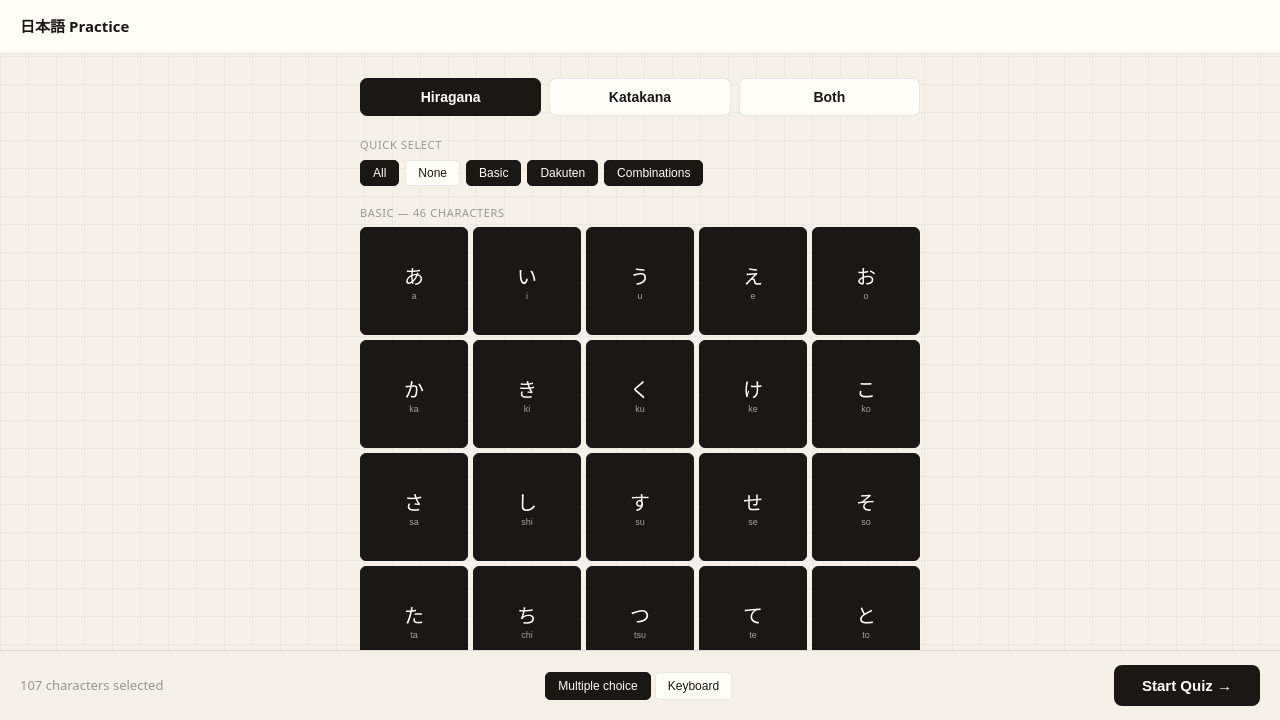
Test case: KanaQuiz › keyboard mode: wrong answer shows wrong state and correct hint
Click the button "Keyboard": (693, 686) [655, 672, 732, 700]
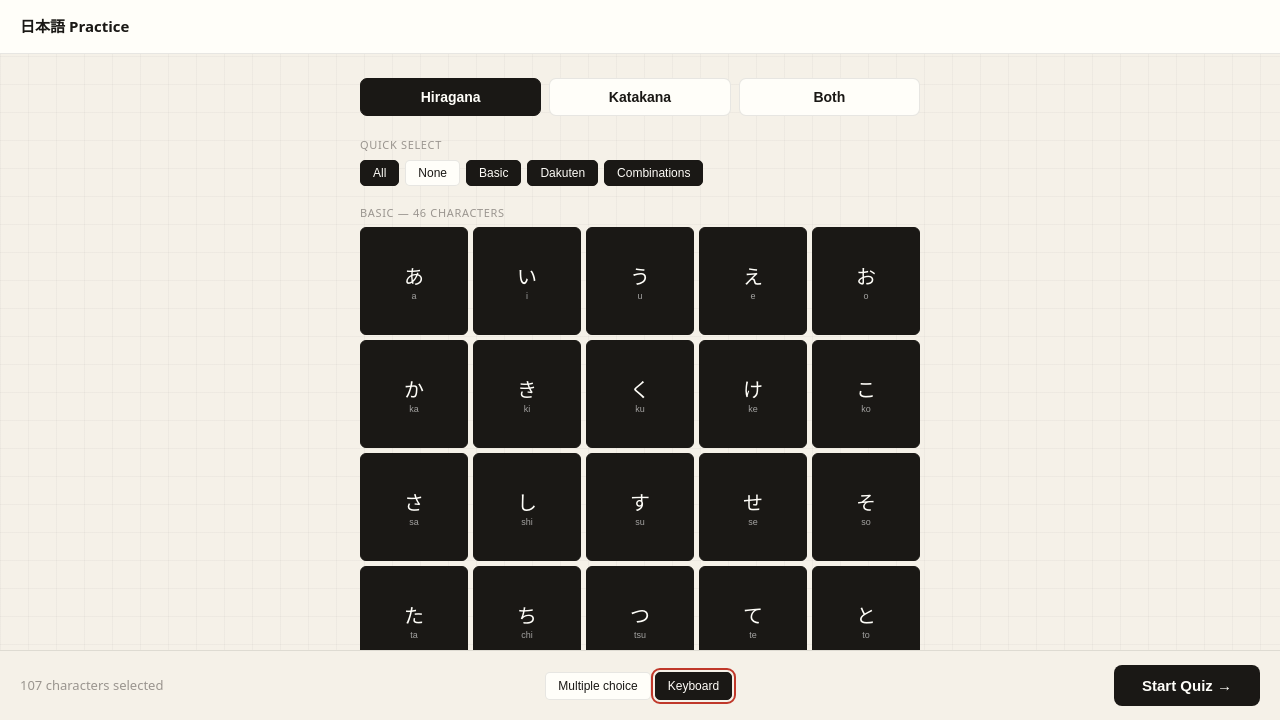
Click the button "None": (433, 173) [405, 160, 460, 186]
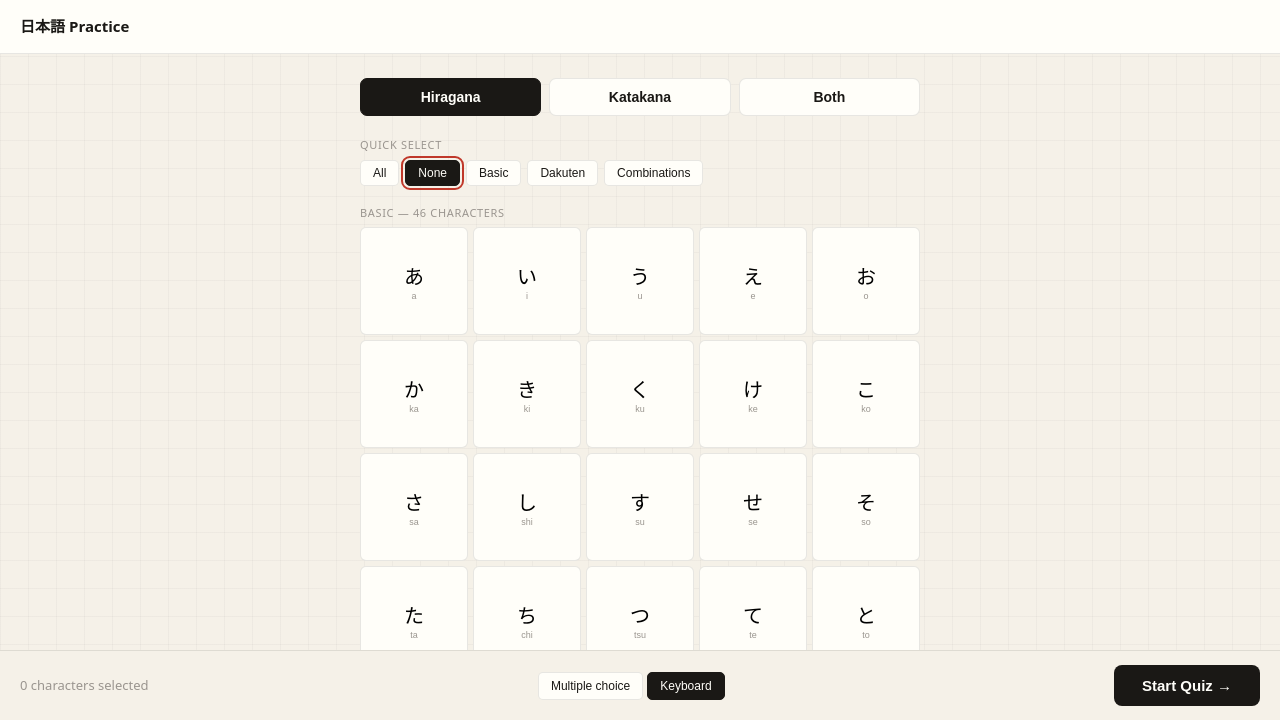
Click the button with class "kana-cell" showing "あ a": (414, 281) [360, 227, 468, 335]
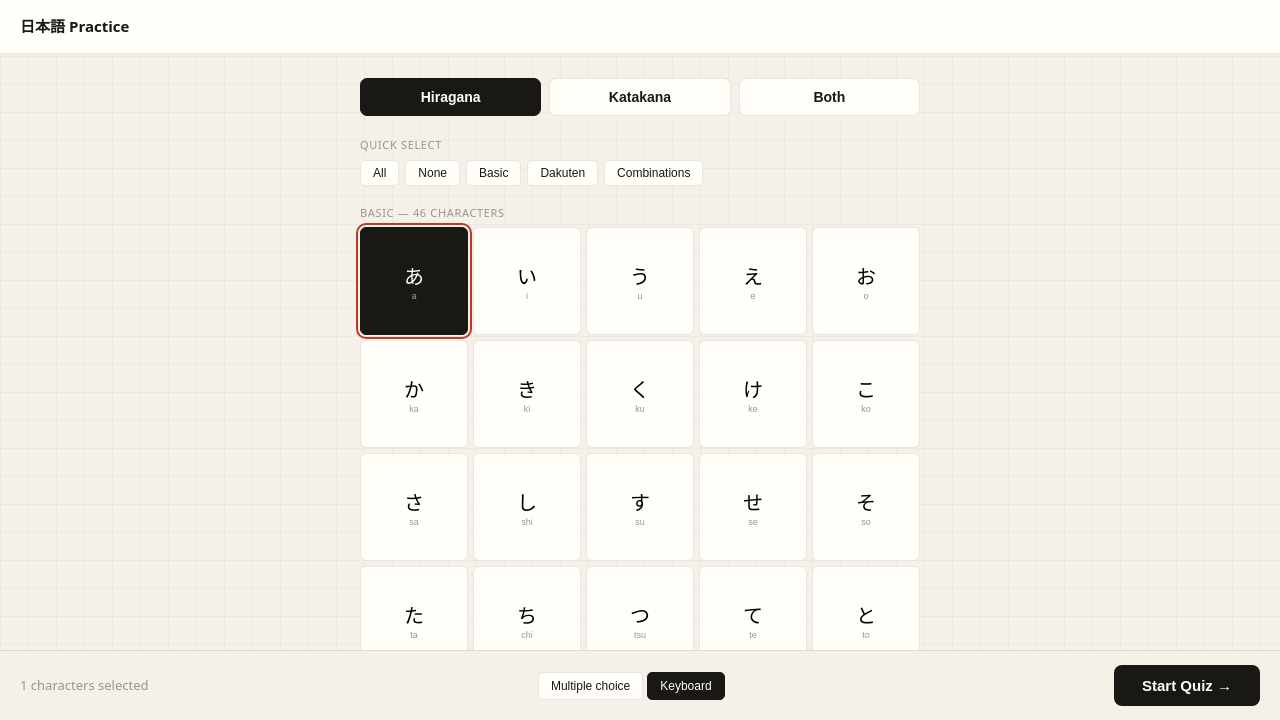
Click the button "Start Quiz →": (1187, 686) [1114, 665, 1260, 706]
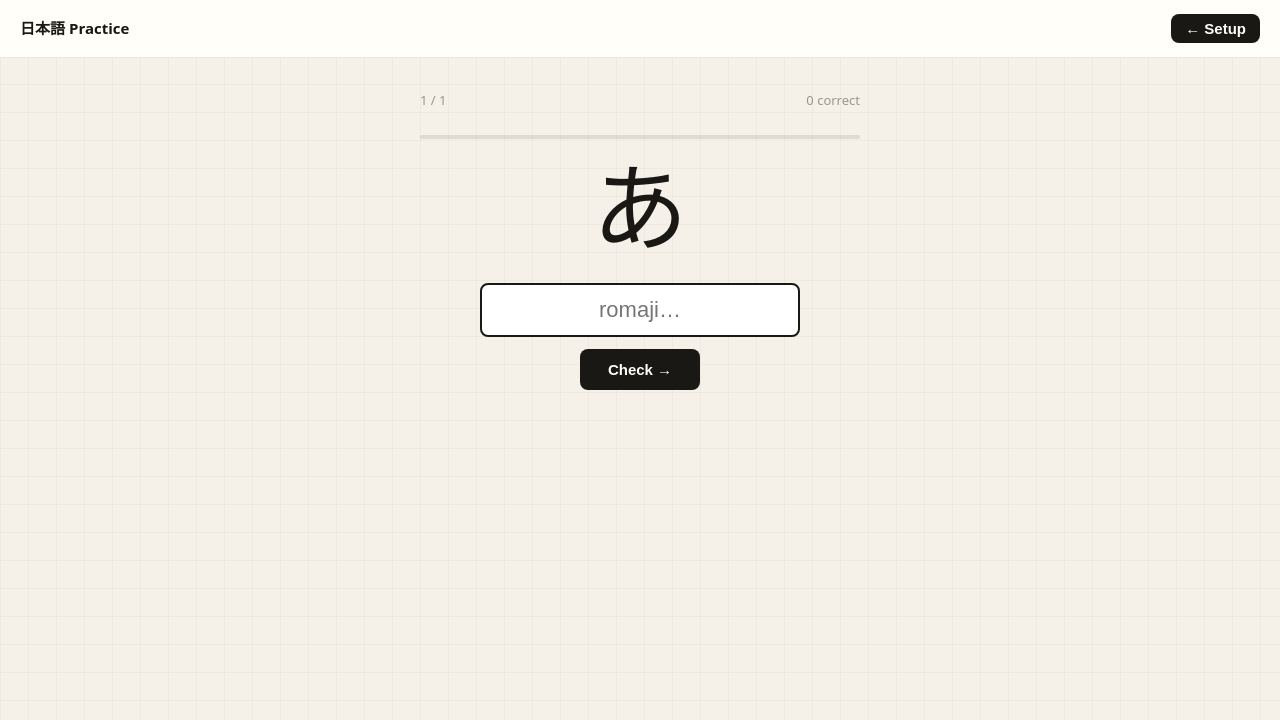
In the field with placeholder "romaji…": (640, 310) [480, 283, 800, 337], type "zzz"
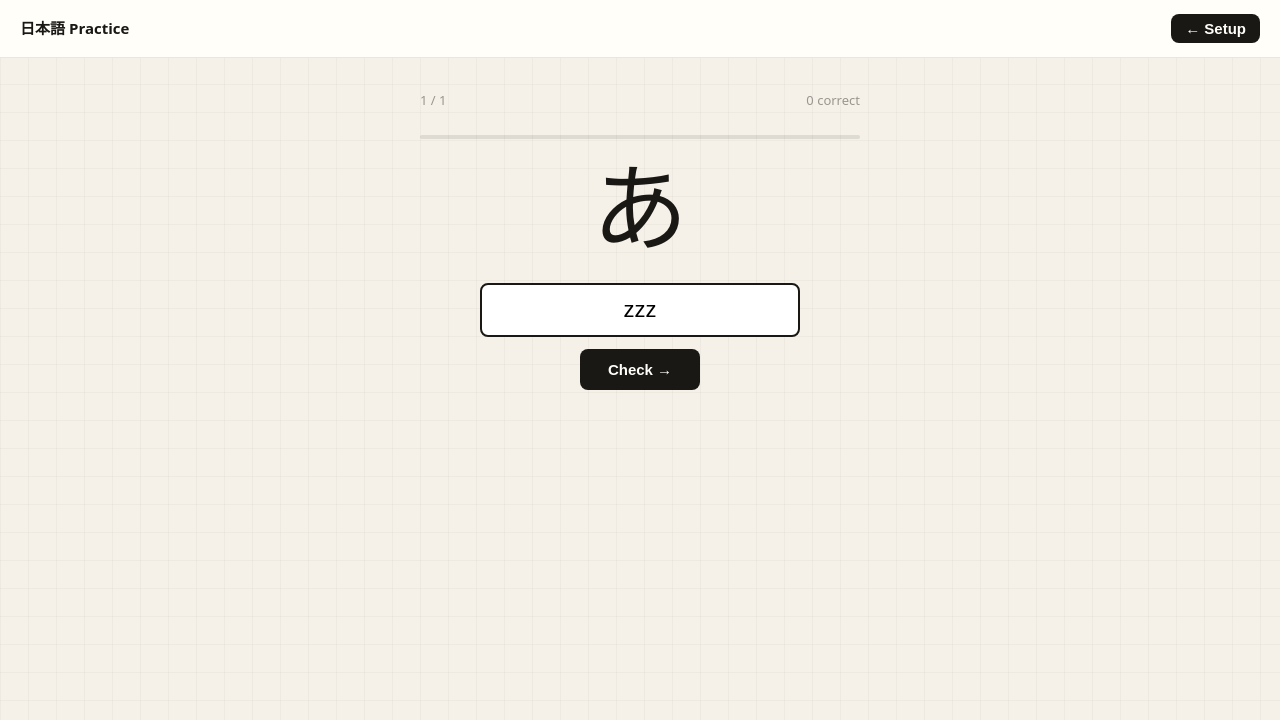
Click the button "Check →": (640, 369) [580, 349, 700, 390]
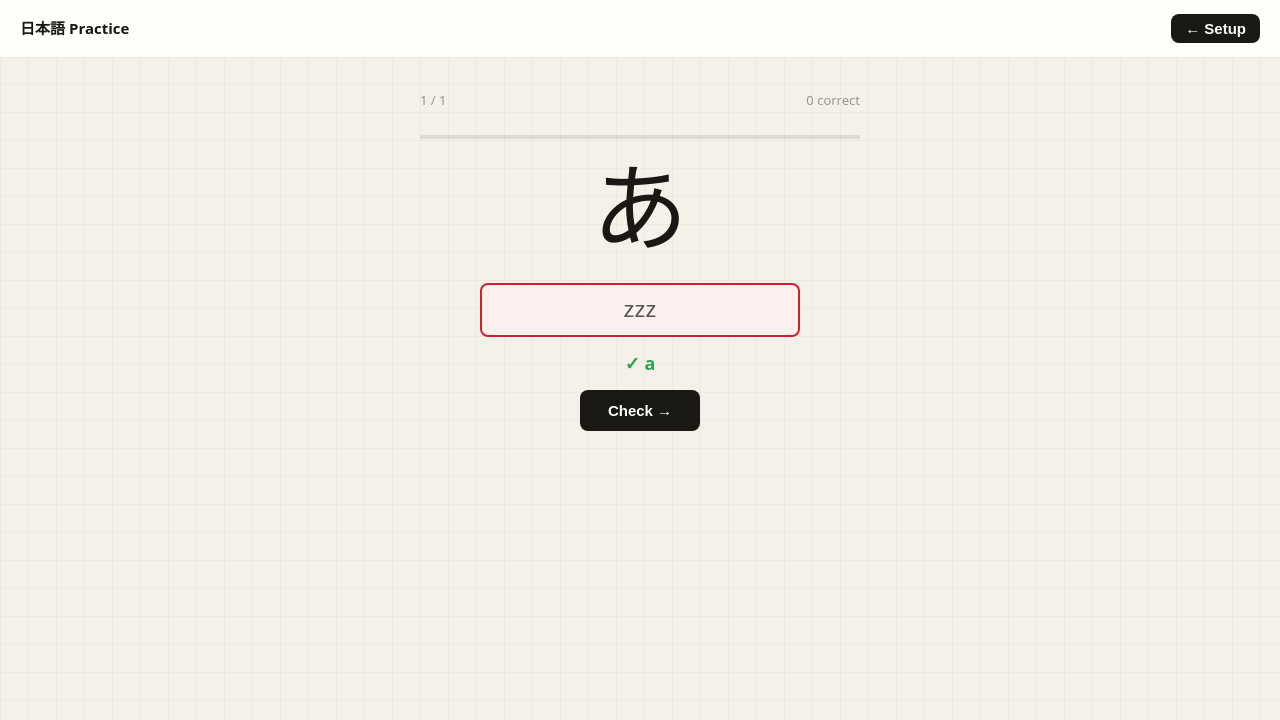
Check: the text "✓ a" is shown, box [625, 349, 655, 378]
